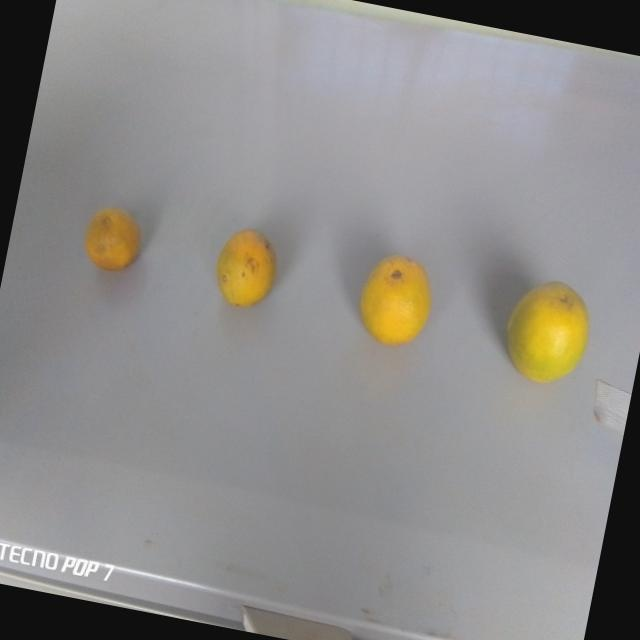agrume: (493, 269, 598, 402), (349, 241, 442, 359), (202, 223, 286, 321), (77, 198, 154, 289)
